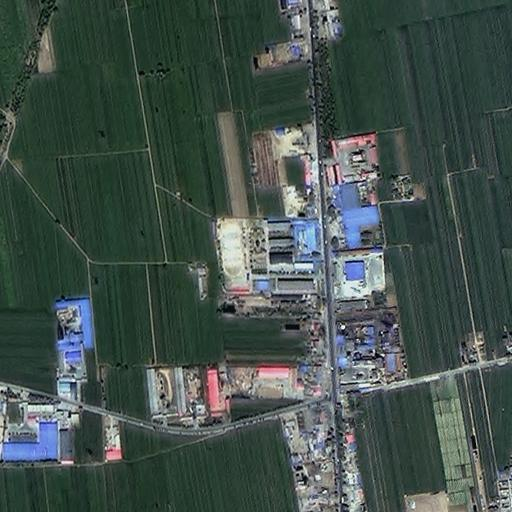school: (215, 215, 318, 299)
